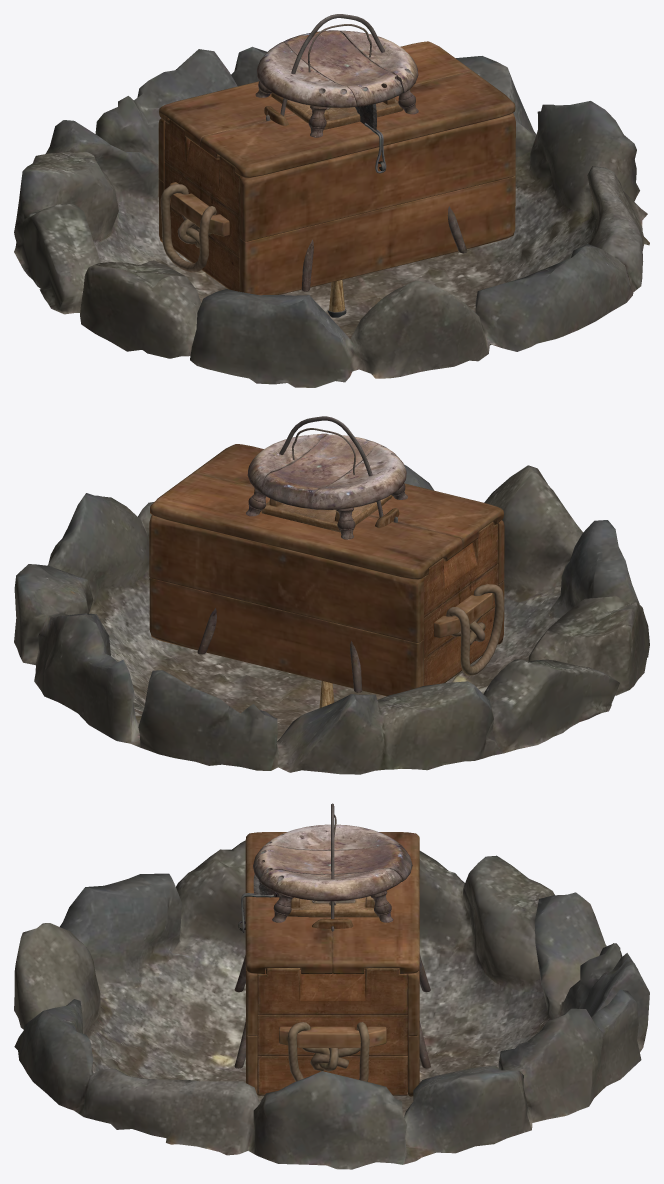
The model's file is cabin_props_lite.glb.
The picture shows the model from 3 angles, top to bottom: view 1: azimuth 30°, elevation 25°; view 2: azimuth 150°, elevation 25°; view 3: azimuth 270°, elevation 25°; orthographic projection.
Visible parts, largest first — view 1: stone_fire_pit, wooden_crate_01, wooden_crate_01_lid, wooden_stool_01, wooden_lantern_01, wooden_axe, wooden_bucket_01_handle; view 2: stone_fire_pit, wooden_crate_01, wooden_crate_01_lid, wooden_stool_01, wooden_lantern_01, wooden_bucket_01_handle; view 3: stone_fire_pit, wooden_crate_01, wooden_crate_01_lid, wooden_stool_01, wooden_lantern_01.
Part boxes in pixels (x1,y1,x2,y2): stone_fire_pit: [14, 46, 649, 387]; wooden_crate_01: [158, 113, 515, 295]; wooden_crate_01_lid: [159, 41, 515, 178]; wooden_stool_01: [255, 30, 467, 291]; wooden_lantern_01: [271, 92, 403, 129]; wooden_axe: [327, 104, 376, 317]; wooden_bucket_01_handle: [266, 14, 385, 120]; stone_fire_pit: [14, 464, 649, 774]; wooden_crate_01: [149, 515, 504, 696]; wooden_crate_01_lid: [150, 444, 503, 579]; wooden_stool_01: [197, 433, 407, 692]; wooden_lantern_01: [261, 495, 392, 532]; wooden_bucket_01_handle: [279, 416, 397, 522]; stone_fire_pit: [14, 840, 649, 1169]; wooden_crate_01: [238, 920, 419, 1096]; wooden_crate_01_lid: [245, 832, 419, 973]; wooden_stool_01: [234, 824, 430, 1068]; wooden_lantern_01: [287, 896, 378, 917].
Bounding box in the file's own units: 1.45 × 0.7686 × 1.43.
Materials: 7 (7 with a texture image).
